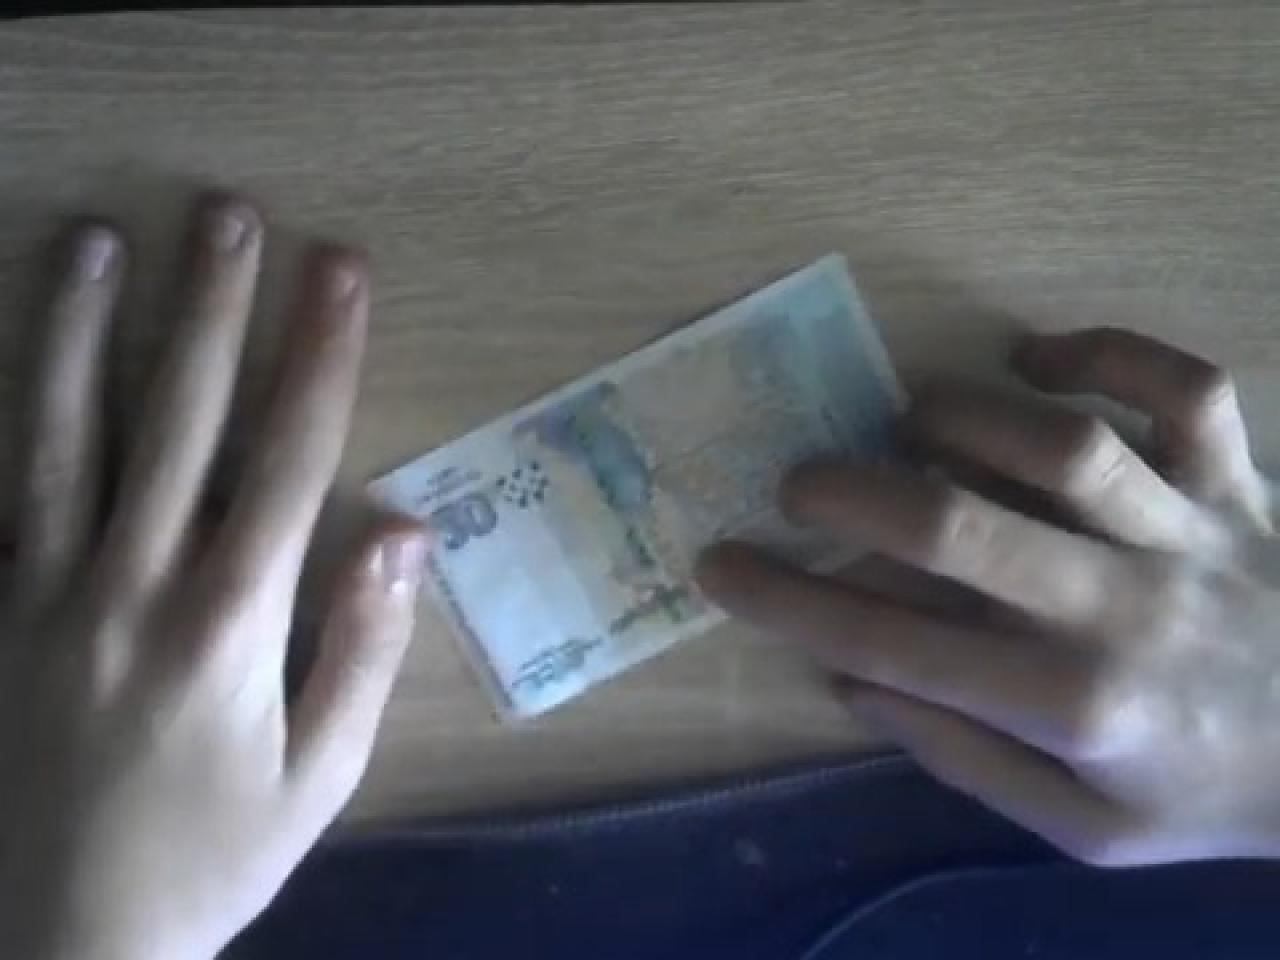20leva: (360, 250, 917, 730)
